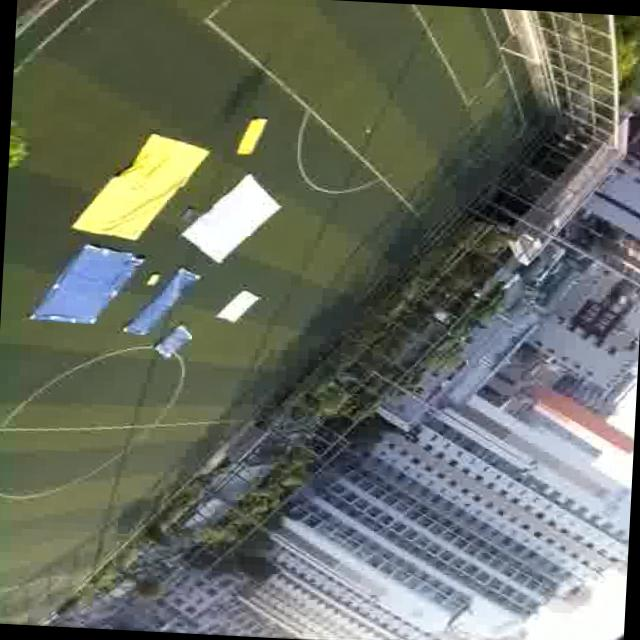danger: (49, 252, 118, 324), (162, 272, 190, 312), (158, 334, 182, 356)
safety: (194, 194, 258, 260), (222, 296, 245, 322)
warning: (109, 143, 178, 234), (234, 116, 266, 156)
